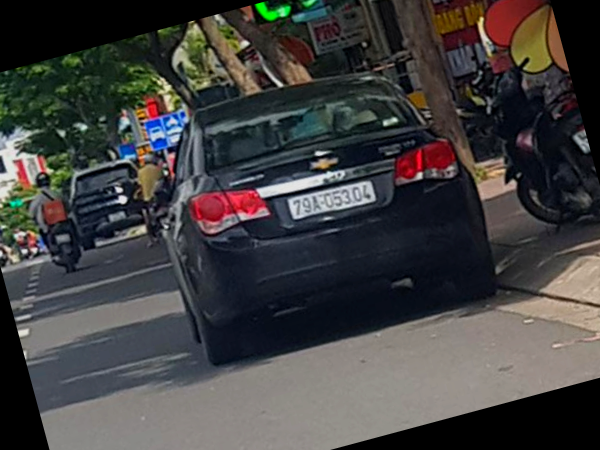lisence: (286, 180, 377, 219)
